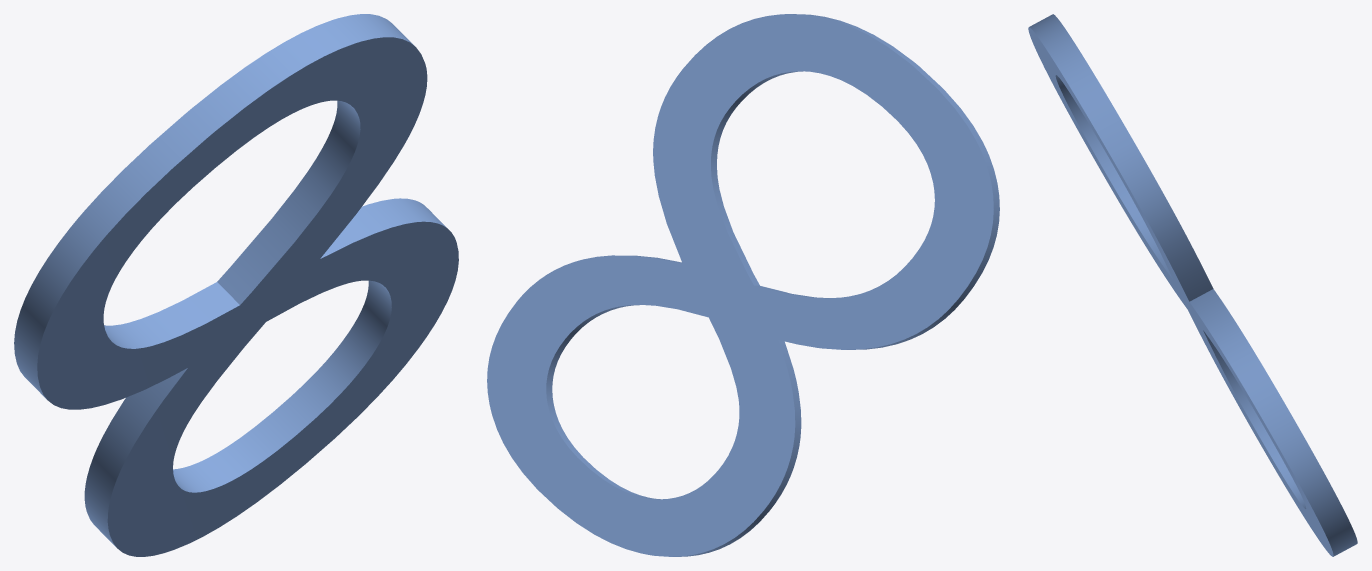
The model's file is New_Number_8.gltf.
3 views of the same model, side by side, from view 1: azimuth 30°, elevation 25°; view 2: azimuth 150°, elevation 25°; view 3: azimuth 270°, elevation 25° (orthographic). The views are drawn at different scales.
Visible parts, largest first — view 1: Part 566; view 2: Part 566; view 3: Part 566.
Part boxes in pixels (x1,y1,x2,y2): Part 566: (14,14,458,556); Part 566: (487,14,999,556); Part 566: (1028,14,1357,556).
Size of the model in its own units: 0.00459 by 0.00504 by 0.00305.
